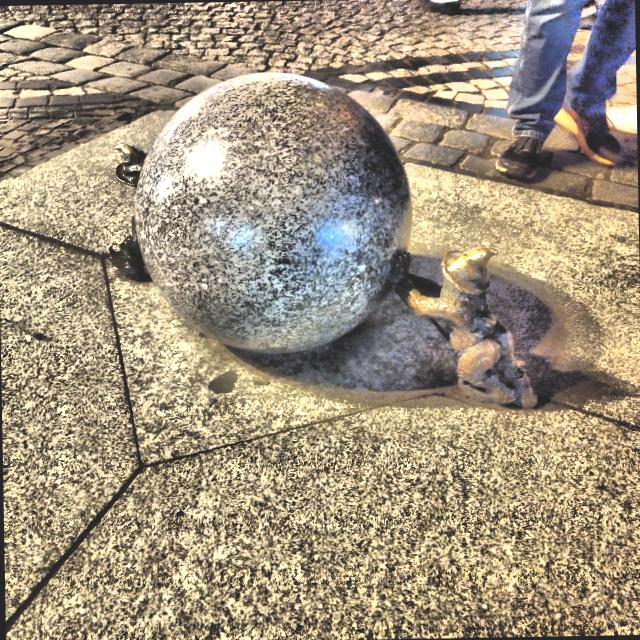Syzyfki: (87, 65, 557, 425)
